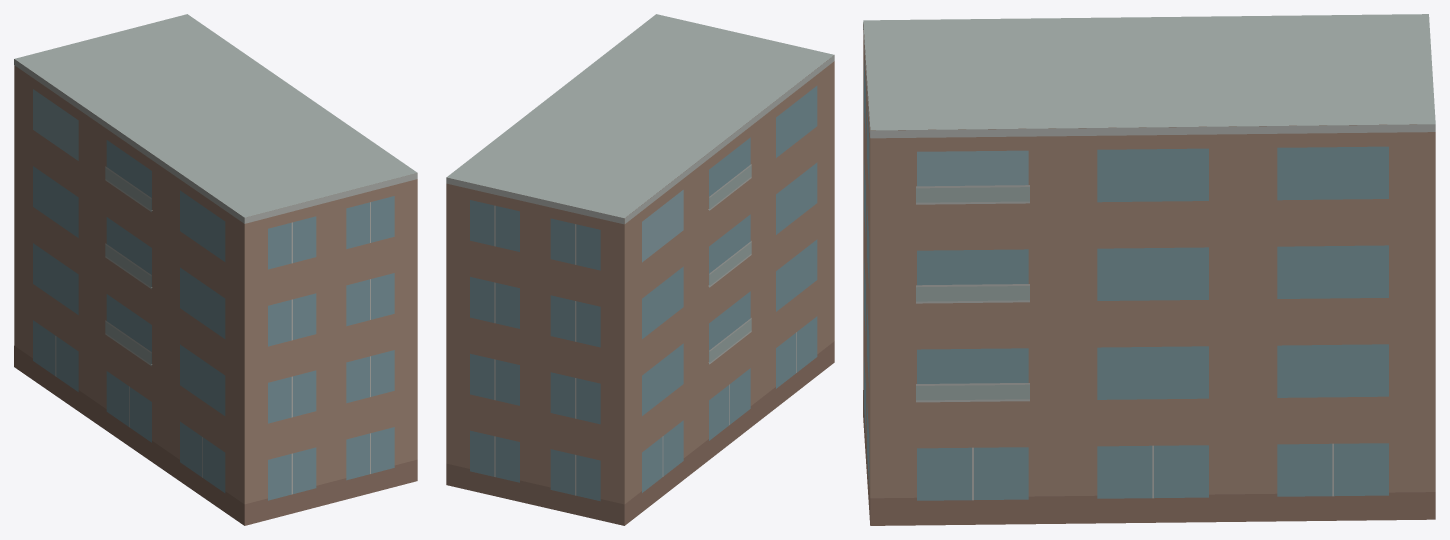
The model's file is residential-cac6f8d3-a8c4-423b-85a5-58b595ac66cf.glb.
3 renders of one model, left to right at view 1: azimuth 30°, elevation 25°; view 2: azimuth 150°, elevation 25°; view 3: azimuth 270°, elevation 25°, orthographic. The views are drawn at different scales.
Visible parts, largest first — view 1: residential-cac6f8d3-a8c4-423b-85a5-58b595ac66cf.tmp; view 2: residential-cac6f8d3-a8c4-423b-85a5-58b595ac66cf.tmp; view 3: residential-cac6f8d3-a8c4-423b-85a5-58b595ac66cf.tmp.
Boxes of the visible parts, x1,y1,x2,y2 form: residential-cac6f8d3-a8c4-423b-85a5-58b595ac66cf.tmp: (14,14,417,525); residential-cac6f8d3-a8c4-423b-85a5-58b595ac66cf.tmp: (446,14,834,525); residential-cac6f8d3-a8c4-423b-85a5-58b595ac66cf.tmp: (863,14,1435,525).
Bounding box in the file's own units: 7.71 × 12.2 × 16.02.
